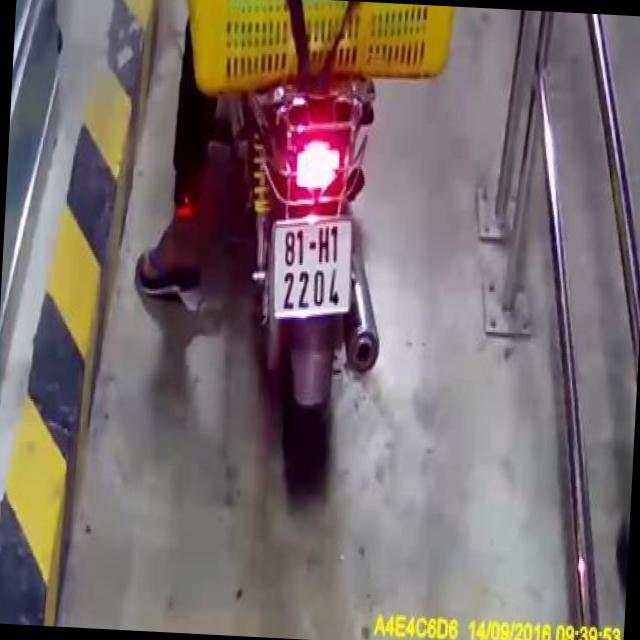LP: (266, 213, 357, 325)
